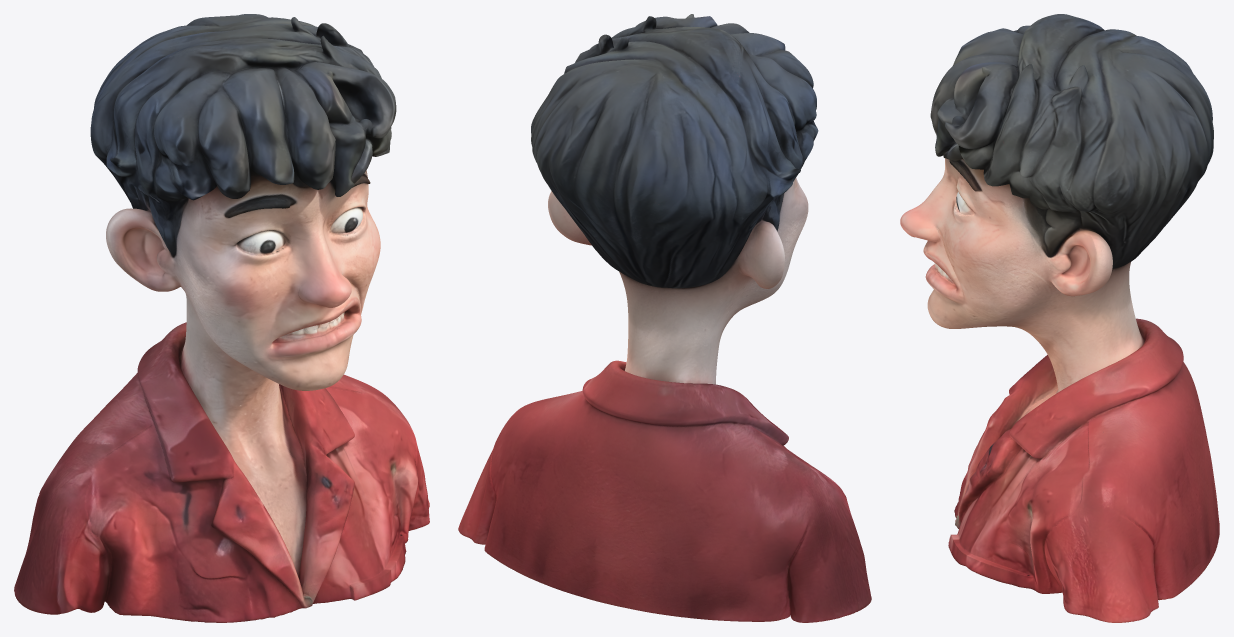
File: gautham_pbr.glb
3 renders of one model, left to right at view 1: azimuth 30°, elevation 25°; view 2: azimuth 150°, elevation 25°; view 3: azimuth 270°, elevation 25°, orthographic. The views are drawn at different scales.
Visible parts, largest first — view 1: model; view 2: model; view 3: model.
Boxes of the visible parts, box(x1,y1,x2,y2) form: model: box(14, 14, 429, 622); model: box(458, 14, 871, 622); model: box(900, 14, 1219, 622).
Bounding box in the file's own units: 1.47 × 1.82 × 1.06.
1 material, 1 textured.
